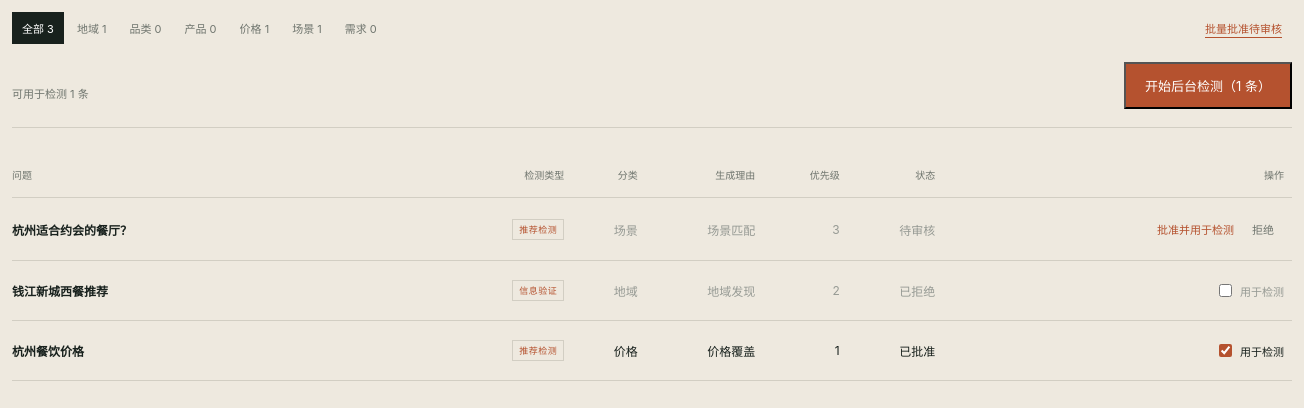
query library workspace › restores the previous row when persistence fails
The image size is (1304, 408).
Step 1. Click the checkbox named "用于检测 q2" → (1226, 290), box [1219,284,1232,297]
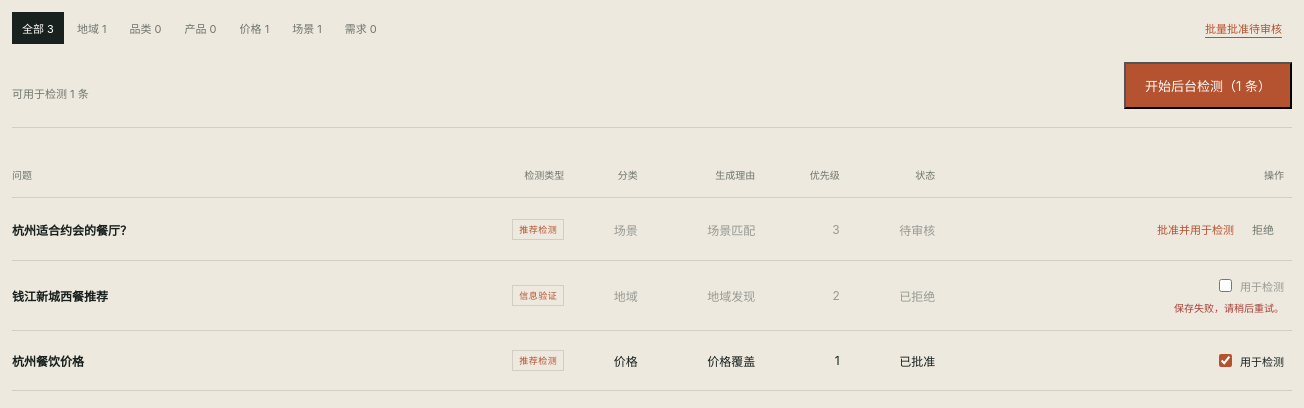
expect the text "已拒绝" is shown: met, box [848,260,943,330]
expect the message reads "保存失败，请稍后重试。": met, box [1174,302,1284,314]
